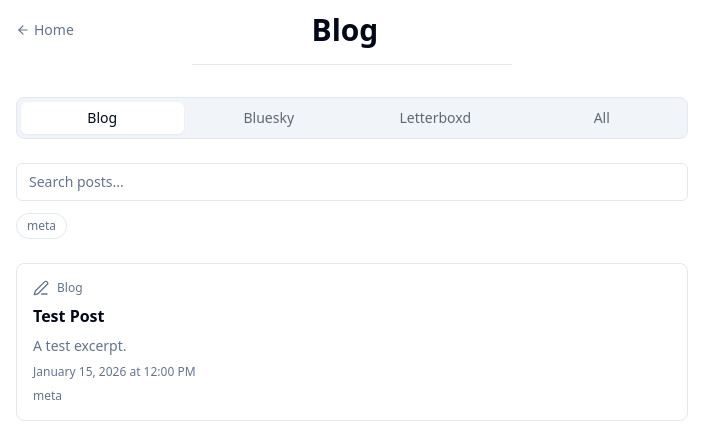
Scenario: BlogPage › shows empty message when search and tag yield no results
The image size is (705, 438).
Step 1. Type "zzz" into the search field → (352, 182), box top-left (16, 163), bottom-right (688, 201)
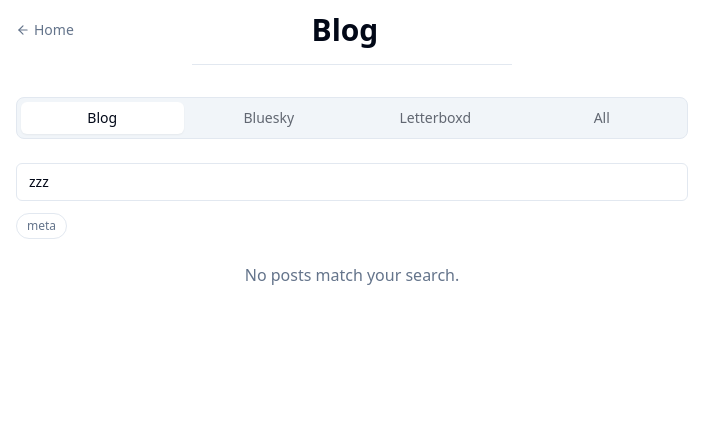
Now the text "No posts match your search." is shown, box top-left (245, 264), bottom-right (459, 286)
